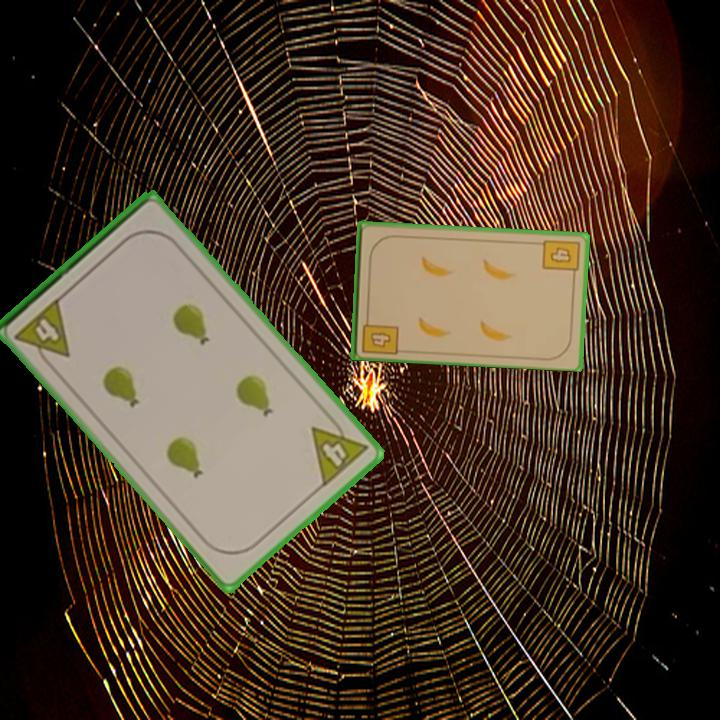4b: (358, 311, 401, 357), (539, 236, 582, 280)
4p: (307, 409, 372, 490), (11, 294, 74, 372)
